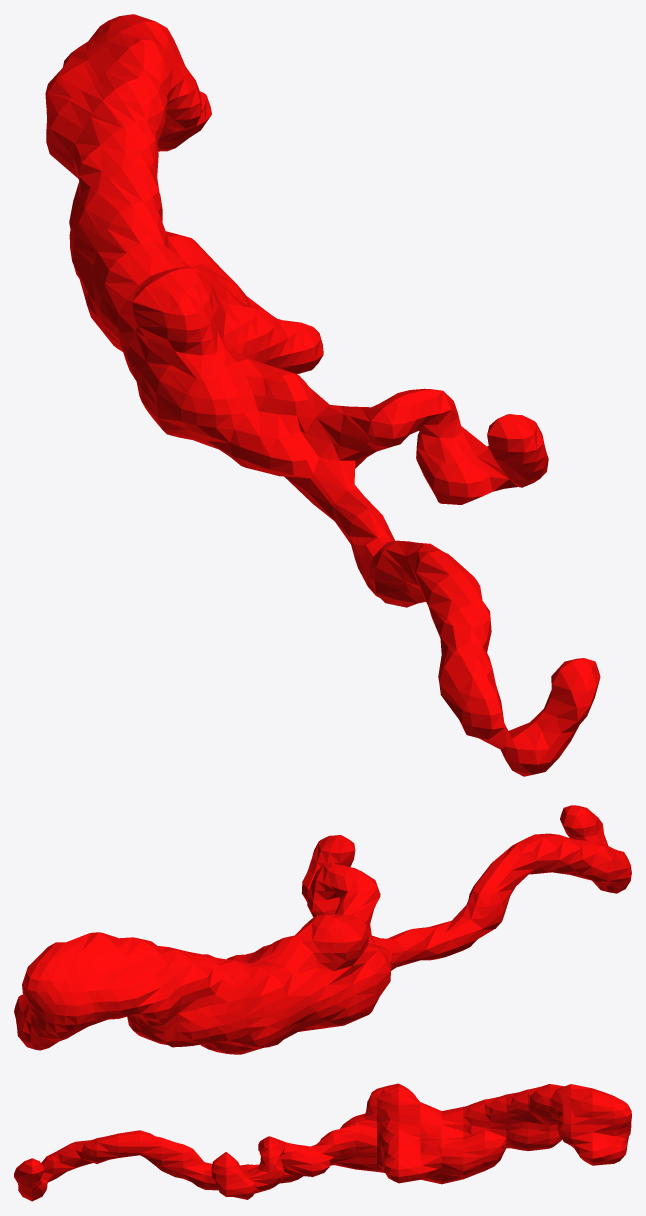
The model's file is wzzB_coarse.dae.
The picture shows the model from 3 angles, top to bottom: view 1: azimuth 30°, elevation 25°; view 2: azimuth 150°, elevation 25°; view 3: azimuth 270°, elevation 25°; orthographic projection. The views are drawn at different scales.
Parts seen in each view (by area): view 1: wzzB; view 2: wzzB; view 3: wzzB.
Boxes of the visible parts, <box> form: wzzB: <box>45,14,600,776</box>; wzzB: <box>14,805,631,1054</box>; wzzB: <box>14,1083,631,1201</box>.
Bounding box in the file's own units: 62.53 × 63.12 × 232.
